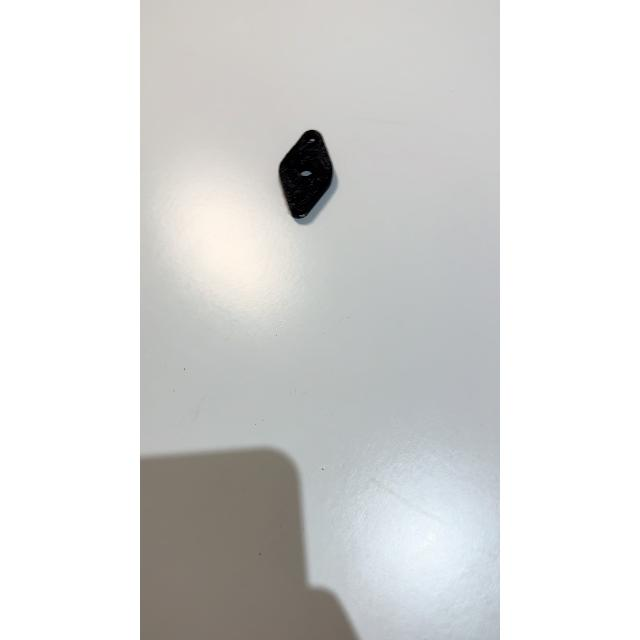Pieza_2: (270, 122, 338, 238)
